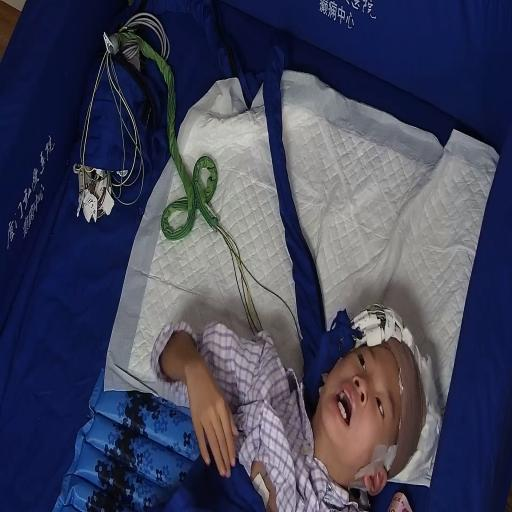Seizure: (311, 306, 398, 465)
